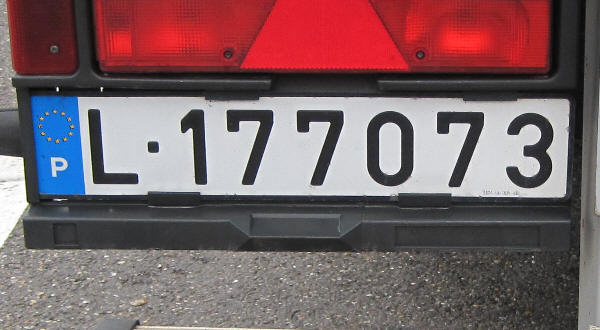license_plate: (30, 92, 574, 202)
